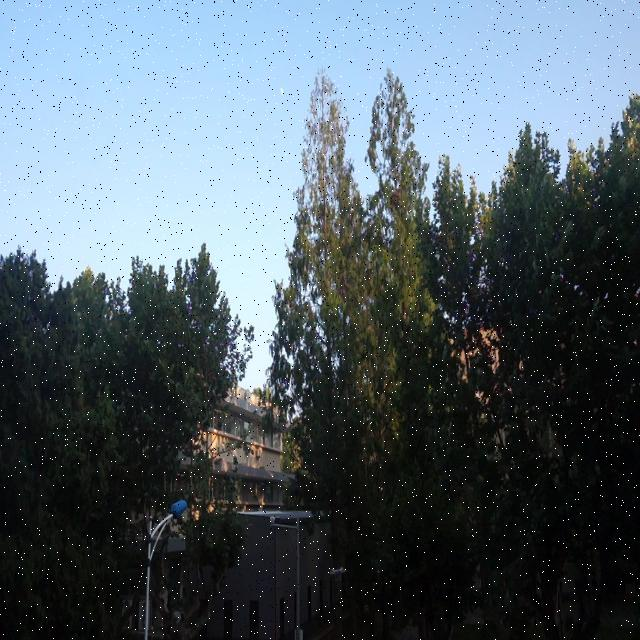UAV: (329, 567, 346, 581)
